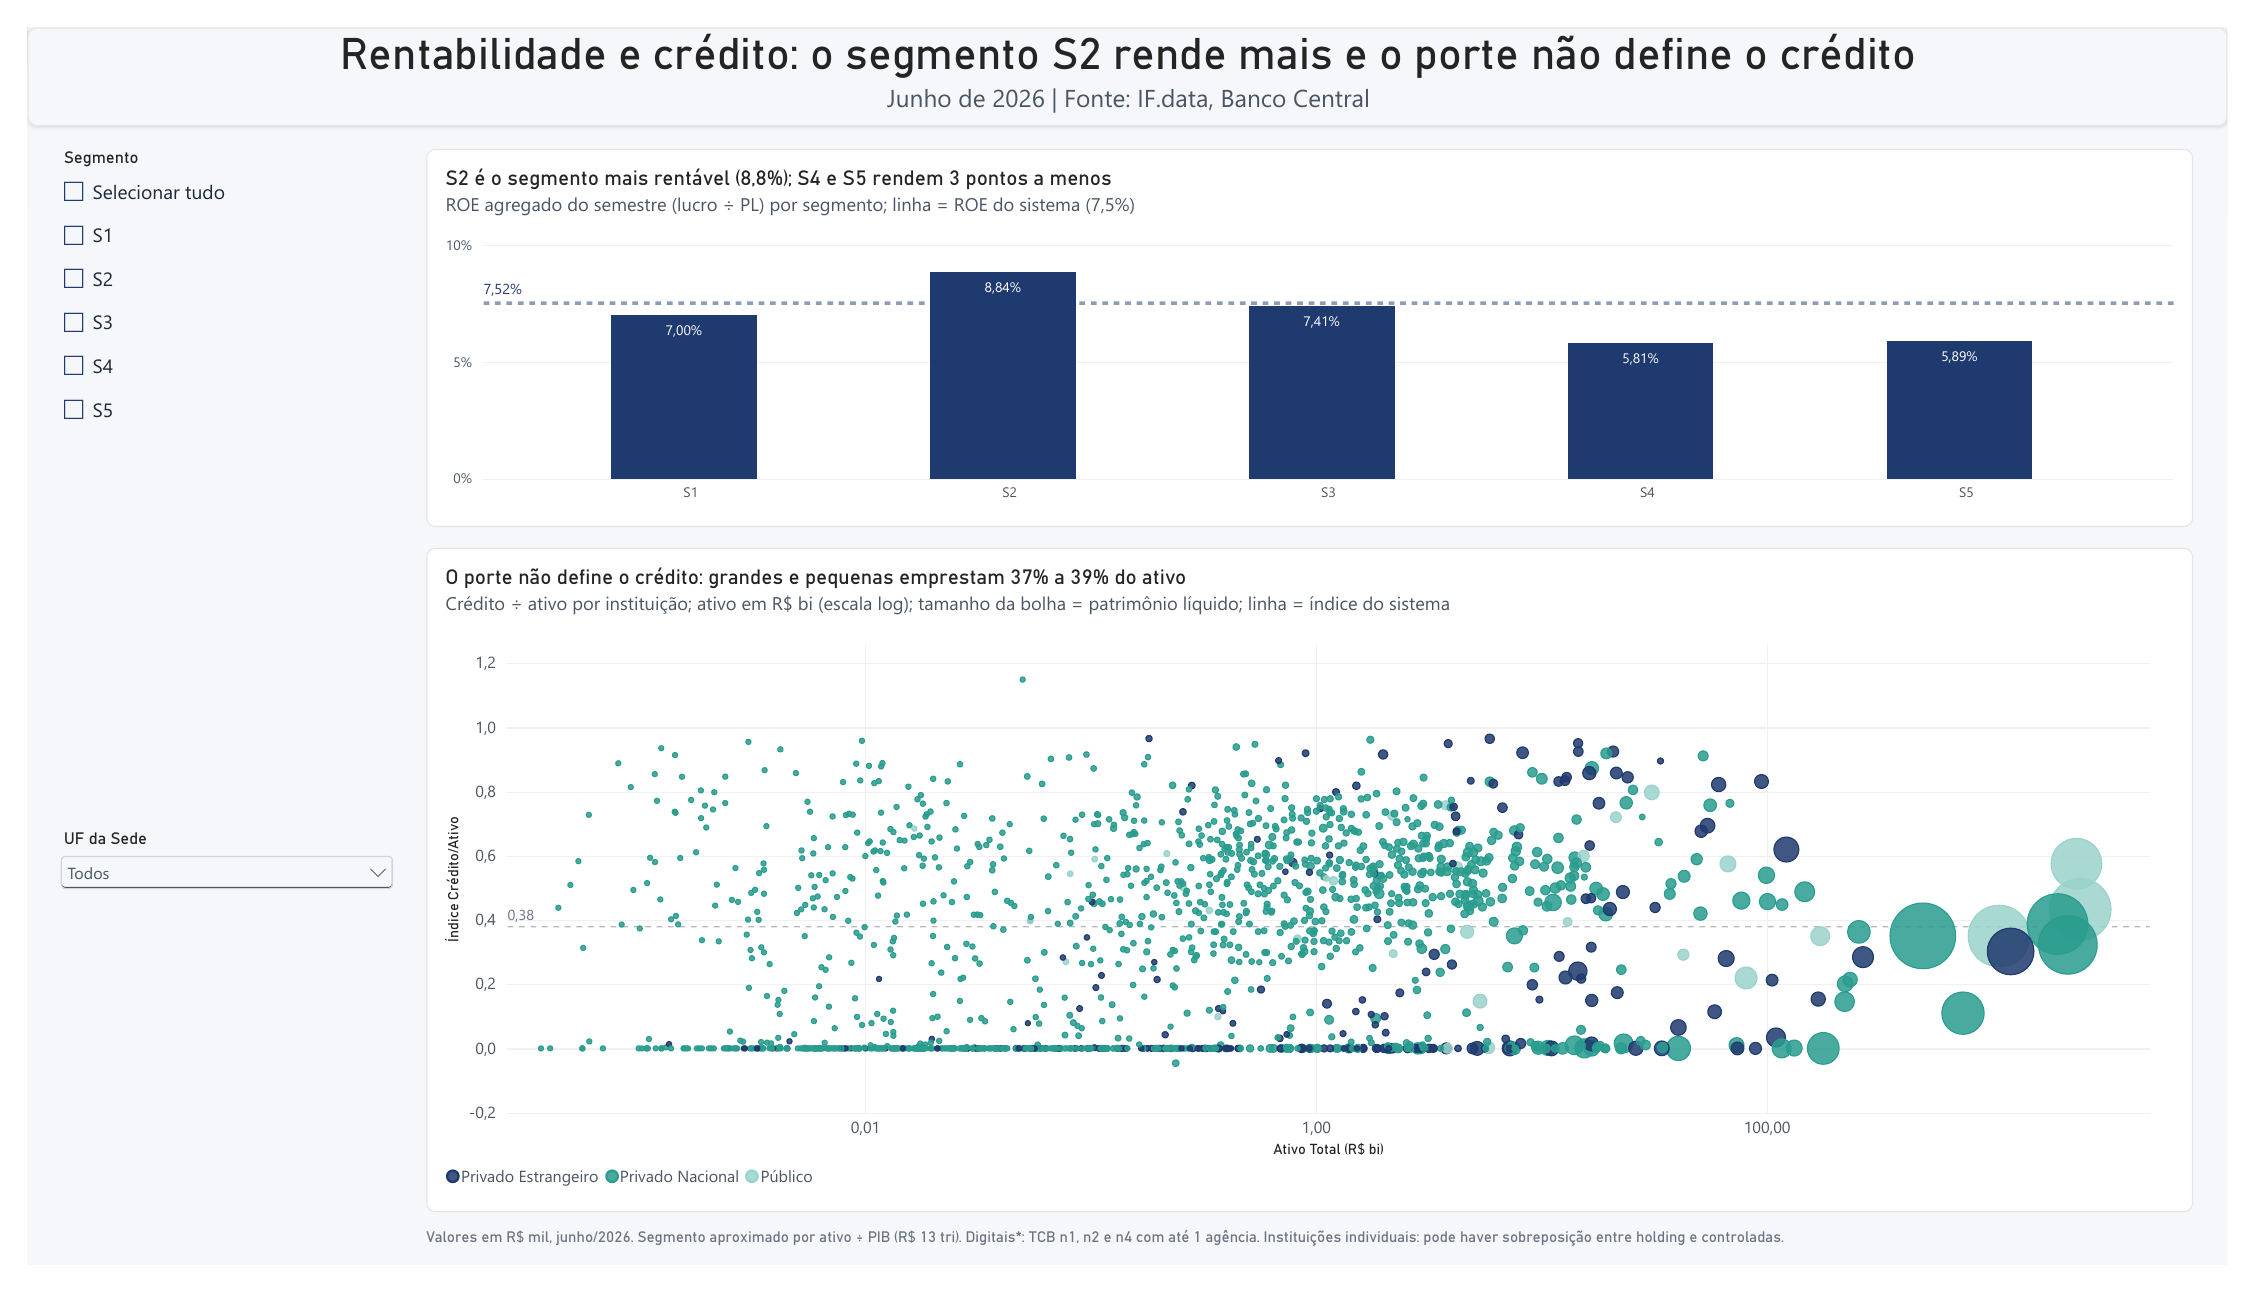

Layout of this report page (visuals, bound fields, positions):
{"tool":"powerbi","page":{"name":"Rentabilidade e crédito","canvas":[1920,1080],"ordinal":1},"visuals":[{"type":"textbox","title":"Rentabilidade e crédito: o segmento S2 rende mais e o porte não define o crédito","box":[0,0,1920,86],"z":0},{"type":"slicer","fields":{"Values":["ifdata.Segmento"]},"box":[24,106,300,330],"z":1000},{"type":"slicer","fields":{"Values":["ifdata.UF"]},"box":[24,700,300,105],"z":2000},{"type":"columnChart","title":"S2 é o segmento mais rentável (8,8%); S4 e S5 rendem 3 pontos a menos","fields":{"Category":["ifdata.Segmento"],"Y":["Medidas.ROE Agregado"]},"box":[348,106,1542,330],"z":3000},{"type":"scatterChart","title":"O porte não define o crédito: grandes e pequenas emprestam 37% a 39% do ativo","fields":{"Category":["ifdata.Instituição"],"Series":["ifdata.Tipo de Controle"],"Size":["Medidas.Patrimônio Líquido"],"X":["Medidas.Ativo Total (R$ bi)"],"Y":["Medidas.Índice Crédito/Ativo"]},"box":[348,454,1542,580],"z":4000},{"type":"textbox","title":"  Valores em R$ mil, junho/2026. Segmento aproximado por ativo ÷ PIB (R$ 13 tri). Digitais*: TCB n1, n2 e n4 com até 1 agência. Instituições individuais: pode haver sobreposição entre holding e contro","box":[348,1048,1542,26],"z":5000}]}

Visuals, with their boxes in screenshot pixels (x1, y1, x2, y2), scaled from the page's 1920x1080 canvas onto the 2255x1293 screenshot:
"Rentabilidade e crédito: o segmento S2 rende mais e o porte não define o crédito" textbox: [0,0,2254,103]
slicer - ifdata.Segmento: [28,127,381,522]
slicer - ifdata.UF: [28,838,381,964]
"S2 é o segmento mais rentável (8,8%); S4 e S5 rendem 3 pontos a menos" columnChart: [409,127,2220,522]
"O porte não define o crédito: grandes e pequenas emprestam 37% a 39% do ativo" scatterChart: [409,544,2220,1238]
"  Valores em R$ mil, junho/2026. Segmento aproximado por ativo ÷ PIB (R$ 13 tri). Digitais*: TCB n1, n2 e n4 com até 1 agência. Instituições individuais: pode haver sobreposição entre holding e contro" textbox: [409,1255,2220,1286]
